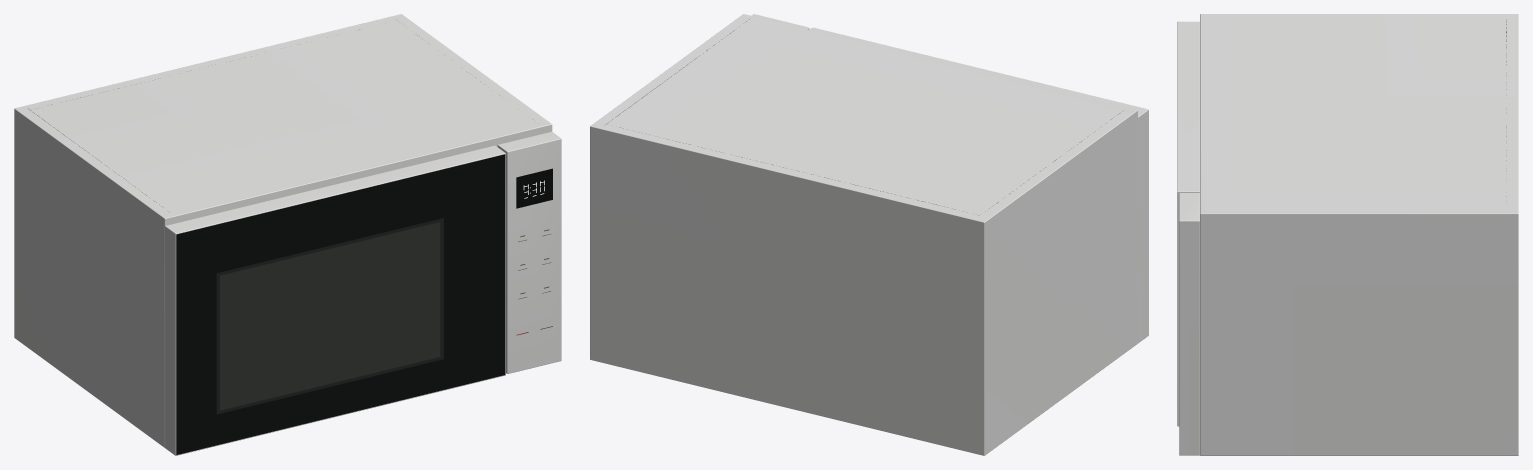
The model's file is MW20GDN.glb.
3 renders of one model, left to right at view 1: azimuth 30°, elevation 25°; view 2: azimuth 150°, elevation 25°; view 3: azimuth 270°, elevation 25°, orthographic. The views are drawn at different scales.
Visible parts, largest first — view 1: BodyShell, FullDoorGlass, WindowMesh, ControlPanel, DoorBody, WindowRim, ControlDisplay; view 2: BodyShell, DoorBody; view 3: BodyShell, ControlPanel, DoorBody.
Part boxes in pixels (x1,y1,x2,y2): BodyShell: (14, 14, 552, 447); FullDoorGlass: (176, 154, 505, 454); WindowMesh: (220, 222, 440, 410); ControlPanel: (497, 131, 561, 373); DoorBody: (165, 145, 505, 455); WindowRim: (216, 218, 443, 414); ControlDisplay: (516, 168, 552, 208); BodyShell: (590, 14, 1137, 455); DoorBody: (809, 27, 1148, 343); BodyShell: (1200, 14, 1518, 455); ControlPanel: (1179, 193, 1199, 455); DoorBody: (1177, 21, 1199, 426).
Bounding box in the file's own units: 0.454 × 0.261 × 0.328.
12 materials, 1 textured.
